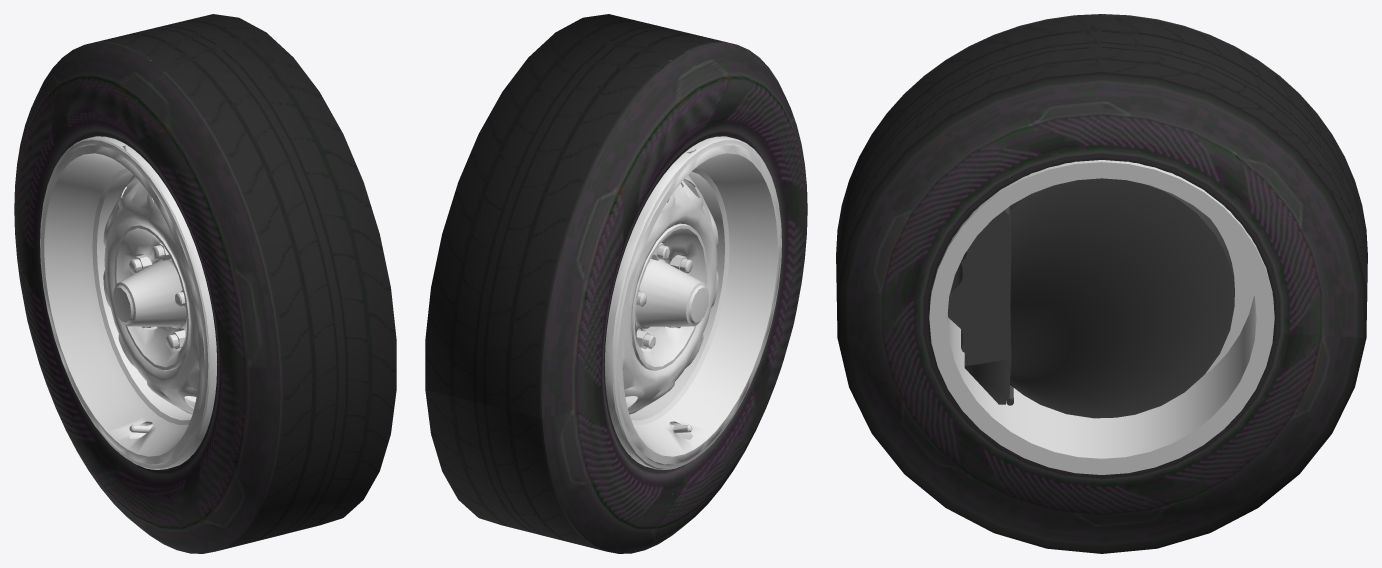
File: cartypewheel0modelhigh.obj
The picture shows the model from 3 angles, left to right: view 1: azimuth 30°, elevation 25°; view 2: azimuth 150°, elevation 25°; view 3: azimuth 270°, elevation 25°; orthographic projection.
Visible parts, largest first — view 1: Wheel_Wheel.005; view 2: Wheel_Wheel.005; view 3: Wheel_Wheel.005.
Part boxes in pixels (box(x1,y1,x2,y2)): Wheel_Wheel.005: box(14, 14, 396, 553); Wheel_Wheel.005: box(425, 14, 807, 553); Wheel_Wheel.005: box(836, 14, 1367, 553).
Bounding box in the file's own units: 0.2175 × 0.6266 × 0.6266.
